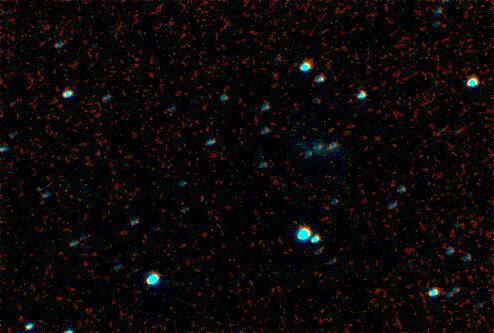star: (315, 134, 345, 164)
